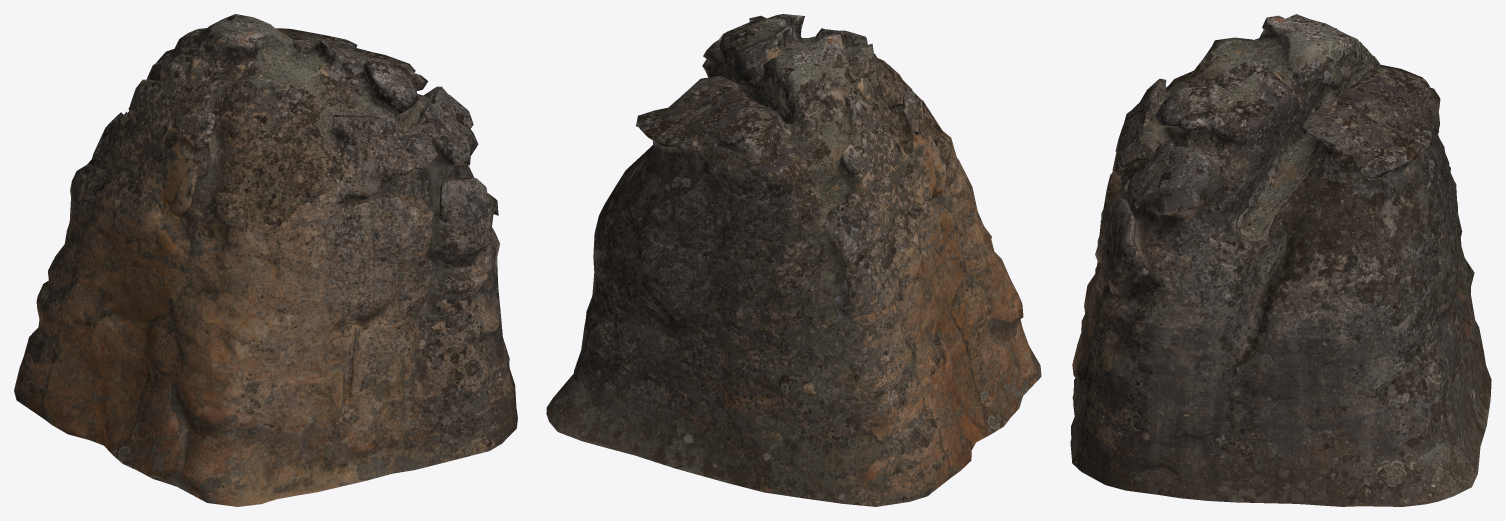
Rendered from SM_yezlff3_tier_2.gltf.
3 renders of one model, left to right at view 1: azimuth 30°, elevation 25°; view 2: azimuth 150°, elevation 25°; view 3: azimuth 270°, elevation 25°, orthographic. The views are drawn at different scales.
Parts seen in each view (by area): view 1: yezlff3_LOD2_TIER2_000; view 2: yezlff3_LOD2_TIER2_000; view 3: yezlff3_LOD2_TIER2_000.
Boxes of the visible parts, bbox=[...] form: yezlff3_LOD2_TIER2_000: bbox=[14, 14, 517, 506]; yezlff3_LOD2_TIER2_000: bbox=[546, 14, 1041, 506]; yezlff3_LOD2_TIER2_000: bbox=[1070, 14, 1491, 506].
Size of the model in its own units: 1.55 by 1.44 by 1.45.
1 material, 1 textured.
